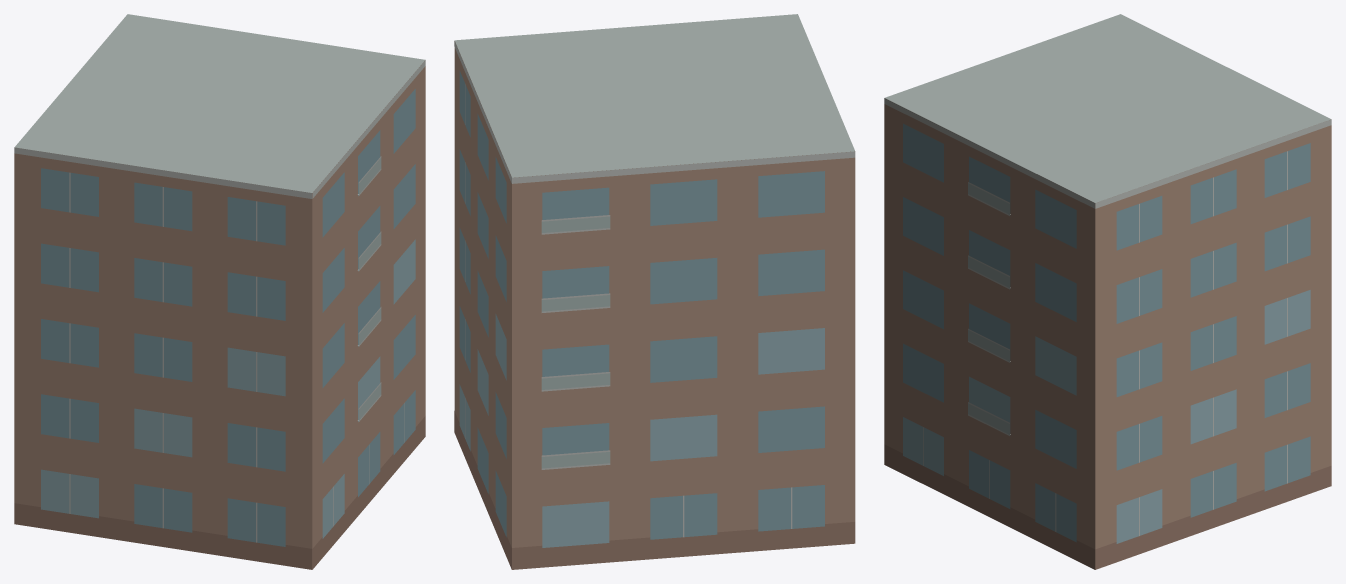
Rendered from survey-upis-32724180.glb.
3 views of the same model, side by side, from view 1: azimuth 30°, elevation 25°; view 2: azimuth 150°, elevation 25°; view 3: azimuth 270°, elevation 25° (orthographic). The views are drawn at different scales.
Parts seen in each view (by area): view 1: survey-upis-32724180.tmp; view 2: survey-upis-32724180.tmp; view 3: survey-upis-32724180.tmp.
Boxes of the visible parts, left/top/right/bottom form: survey-upis-32724180.tmp: left=14, top=14, right=425, bottom=569; survey-upis-32724180.tmp: left=454, top=14, right=855, bottom=569; survey-upis-32724180.tmp: left=884, top=14, right=1331, bottom=569.
Bounding box in the file's own units: 16.87 × 15.25 × 16.86.
